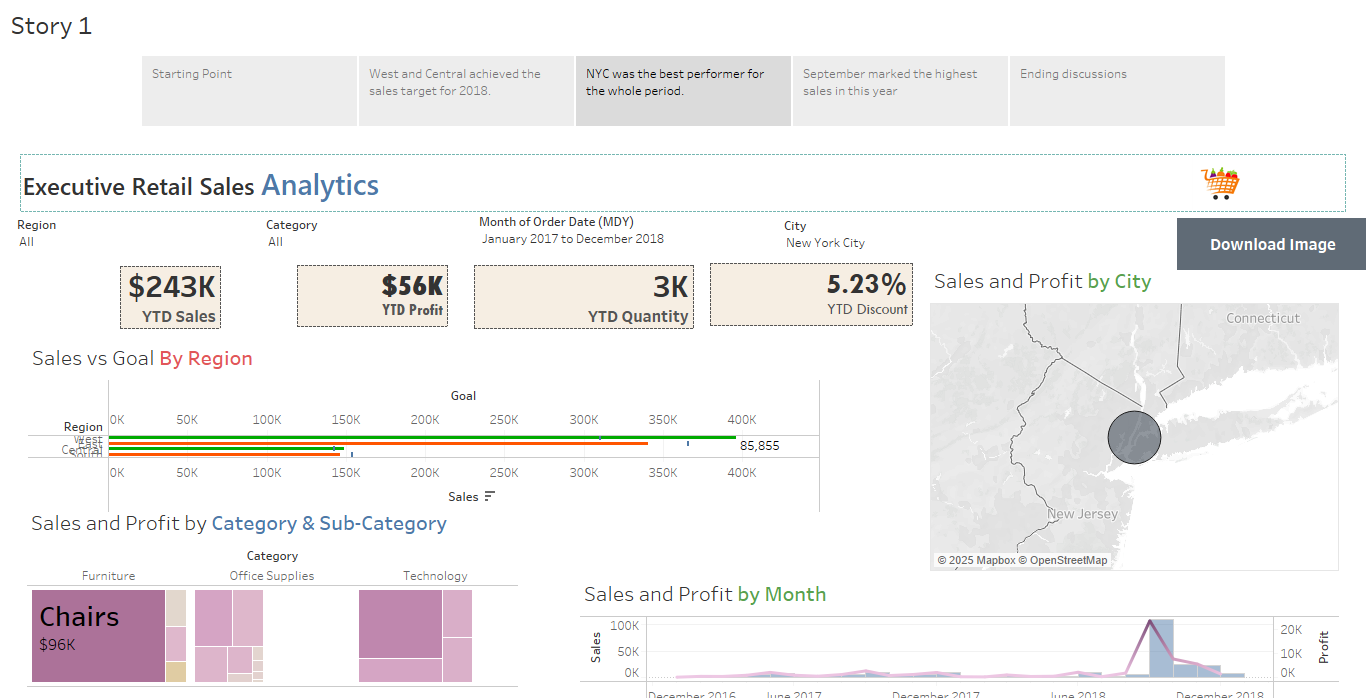

This screenshot's page, from the dashboard's own definition file:
{"tool":"tableau","page":{"name":"Dashboard 1","canvas":[1000,1000],"units":"permille","ordinal":0},"visuals":[{"type":"title","box":[6.9,14.7,986.1,121.3]},{"type":"image","param":"Image/download (1).png","box":[809.5,23.9,176.6,101.1]},{"type":"filter","title":"Sheet 4","param":"[federated.1nce79t0n6qeqg18lkibh11xxfkd].[tmn:Order Date (MDY):qk]","box":[348.9,126.8,208.7,95.6]},{"type":"filter","title":"Sheet 2","param":"[federated.1nce79t0n6qeqg18lkibh11xxfkd].[none:Region:nk]","box":[6.9,132.3,138.5,218.8]},{"type":"filter","title":"Sheet 3","param":"[federated.1nce79t0n6qeqg18lkibh11xxfkd].[none:Category:nk]","box":[191.3,132.3,138.5,84.6]},{"type":"filter","title":"Sheet 5","param":"[federated.1nce79t0n6qeqg18lkibh11xxfkd].[none:City:nk]","box":[574.9,134.2,138.5,119.5]},{"type":"worksheet","title":"Sheet 5","mark":"Automatic","box":[683.1,215.1,303,568]},{"type":"worksheet","title":"Sheet 6 (4)","mark":"Automatic","box":[520.4,220.6,150.7,115.8]},{"type":"worksheet","title":"Sheet 6 (2)","mark":"Automatic","box":[213.8,224.3,111.7,114]},{"type":"worksheet","title":"Sheet 6 (3)","mark":"Automatic","box":[345.4,224.3,162.8,117.7]},{"type":"worksheet","title":"Sheet 6","mark":"Automatic","box":[83.1,226.1,333.3,332.7]},{"type":"worksheet","title":"Sheet 2","mark":"Automatic","rows":["Region"],"cols":["Sales","Goal"],"box":[14.7,356.6,587,321.7]},{"type":"worksheet","title":"Sheet 3","mark":"Automatic","cols":["Category"],"box":[13.8,656.2,402.6,340.1]}]}

Visuals, with their boxes on the dashboard's canvas, which has no fixed pixel size, in thousandths of its width and height (x1, y1, x2, y2). These are canvas units, not pixel positions in the 1366x698 screenshot, which may show the page scaled, cropped or inside an application window:
title: [x1=7, y1=15, x2=993, y2=136]
image: [x1=810, y1=24, x2=986, y2=125]
"Sheet 4" filter: [x1=349, y1=127, x2=558, y2=222]
"Sheet 2" filter: [x1=7, y1=132, x2=145, y2=351]
"Sheet 3" filter: [x1=191, y1=132, x2=330, y2=217]
"Sheet 5" filter: [x1=575, y1=134, x2=713, y2=254]
"Sheet 5" worksheet: [x1=683, y1=215, x2=986, y2=783]
"Sheet 6 (4)" worksheet: [x1=520, y1=221, x2=671, y2=336]
"Sheet 6 (2)" worksheet: [x1=214, y1=224, x2=326, y2=338]
"Sheet 6 (3)" worksheet: [x1=345, y1=224, x2=508, y2=342]
"Sheet 6" worksheet: [x1=83, y1=226, x2=416, y2=559]
"Sheet 2" worksheet: [x1=15, y1=357, x2=602, y2=678]
"Sheet 3" worksheet: [x1=14, y1=656, x2=416, y2=996]
